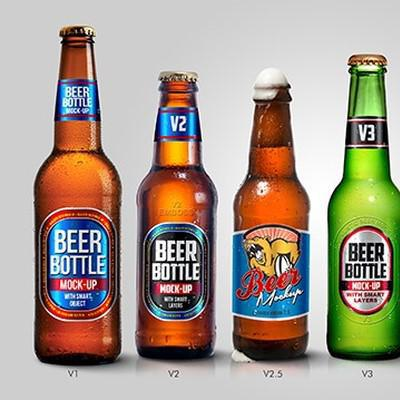beer: (31, 26, 400, 368)
